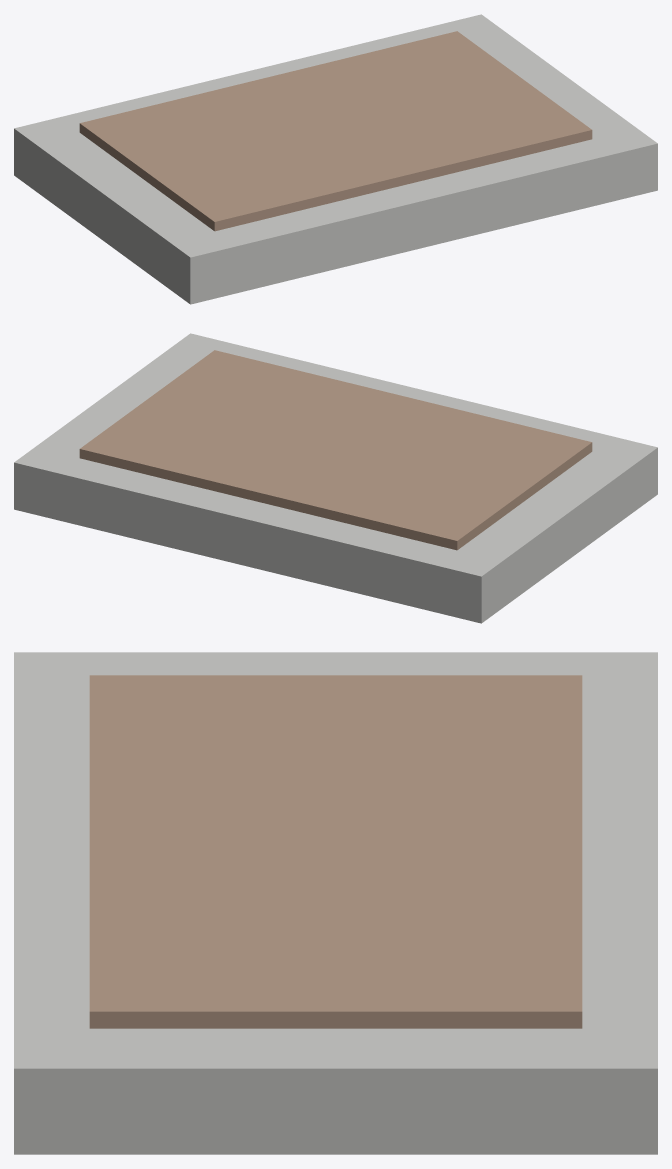
File: drain_grate.glb
The picture shows the model from 3 angles, top to bottom: view 1: azimuth 30°, elevation 25°; view 2: azimuth 150°, elevation 25°; view 3: azimuth 270°, elevation 25°; orthographic projection. The views are drawn at different scales.
Visible parts, largest first — view 1: props_drain_grate; view 2: props_drain_grate; view 3: props_drain_grate.
Part boxes in pixels (x1=…): props_drain_grate: x1=14, y1=14, x2=657, y2=304; props_drain_grate: x1=14, y1=333, x2=657, y2=623; props_drain_grate: x1=14, y1=652, x2=657, y2=1154.
Bounding box in the file's own units: 0.52 × 0.06 × 0.34.
